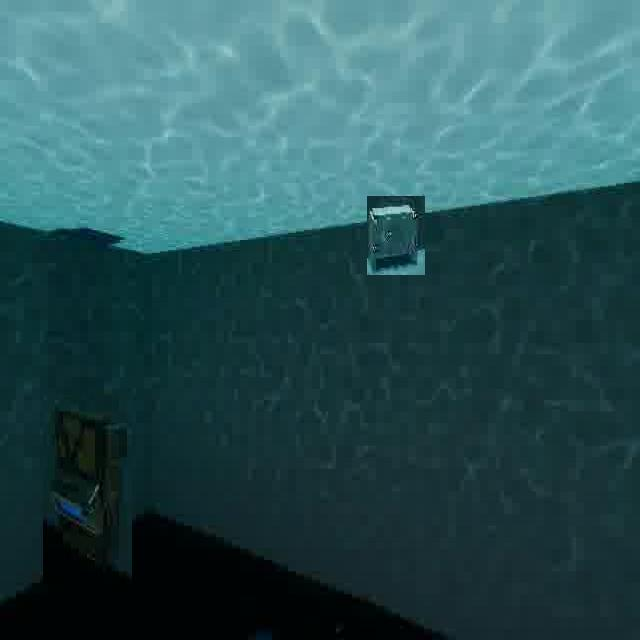Control Panel: (43, 395, 132, 584)
Docking Station: (367, 196, 426, 276)
